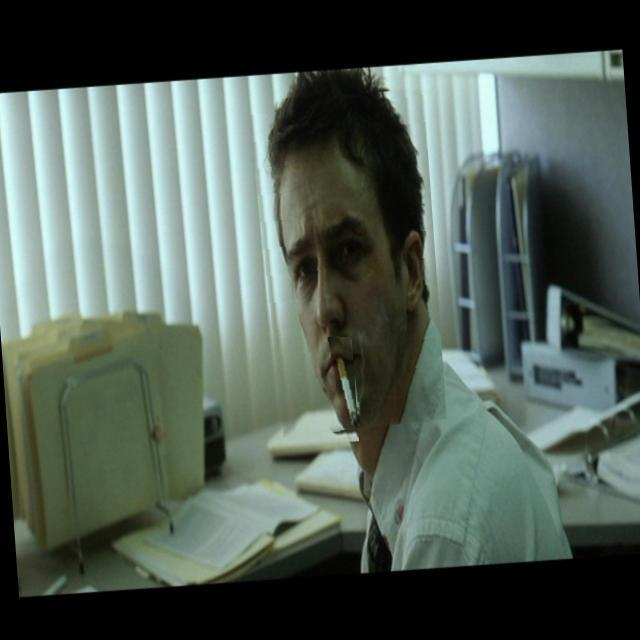cigarette: (327, 335, 359, 442)
